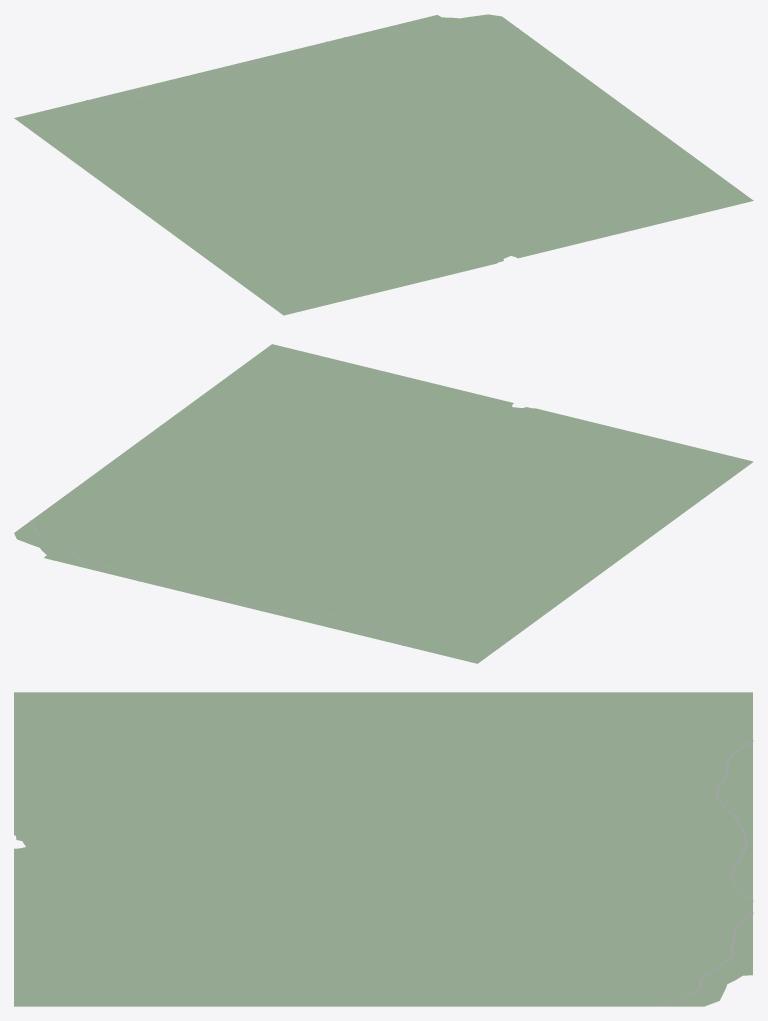
File: -23_-14-known-coarse.glb
3 renders of one model, top to bottom at view 1: azimuth 30°, elevation 25°; view 2: azimuth 150°, elevation 25°; view 3: azimuth 270°, elevation 25°, orthographic. The views are drawn at different scales.
Size of the model in its own units: 1002 by 0.1 by 996.
